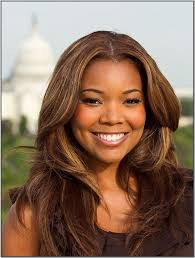black_female: (70, 44, 148, 160)
